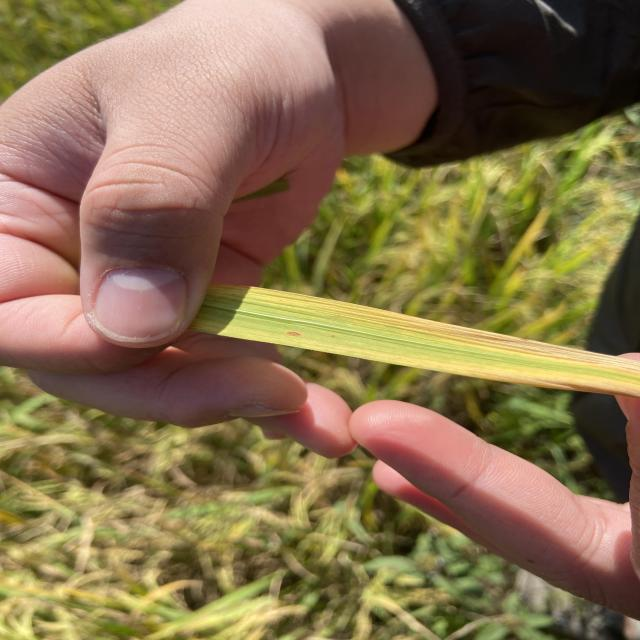Dom nau: (287, 331, 300, 336), (332, 335, 334, 337)
